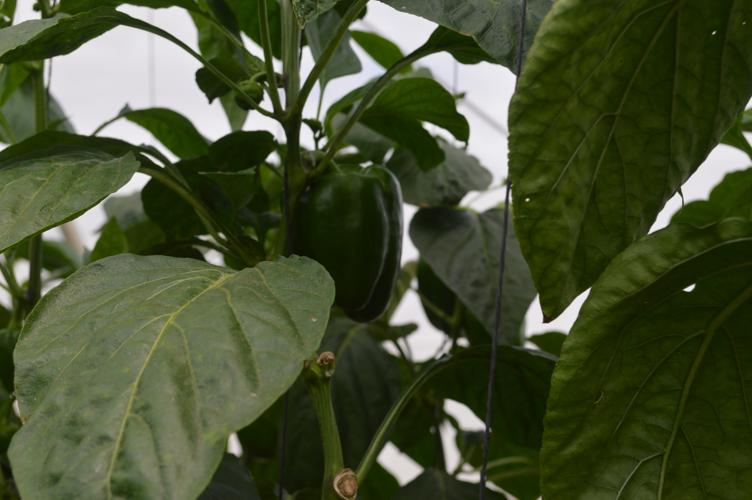BellPepper: (298, 166, 402, 322)
